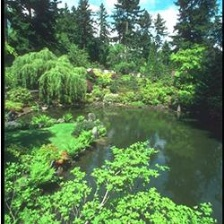neutral: (7, 1, 221, 222)
